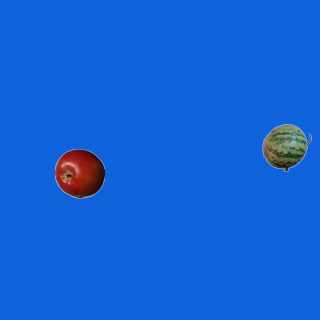Apple Braeburn: (54, 148, 104, 198)
Watermelon: (261, 122, 311, 172)
